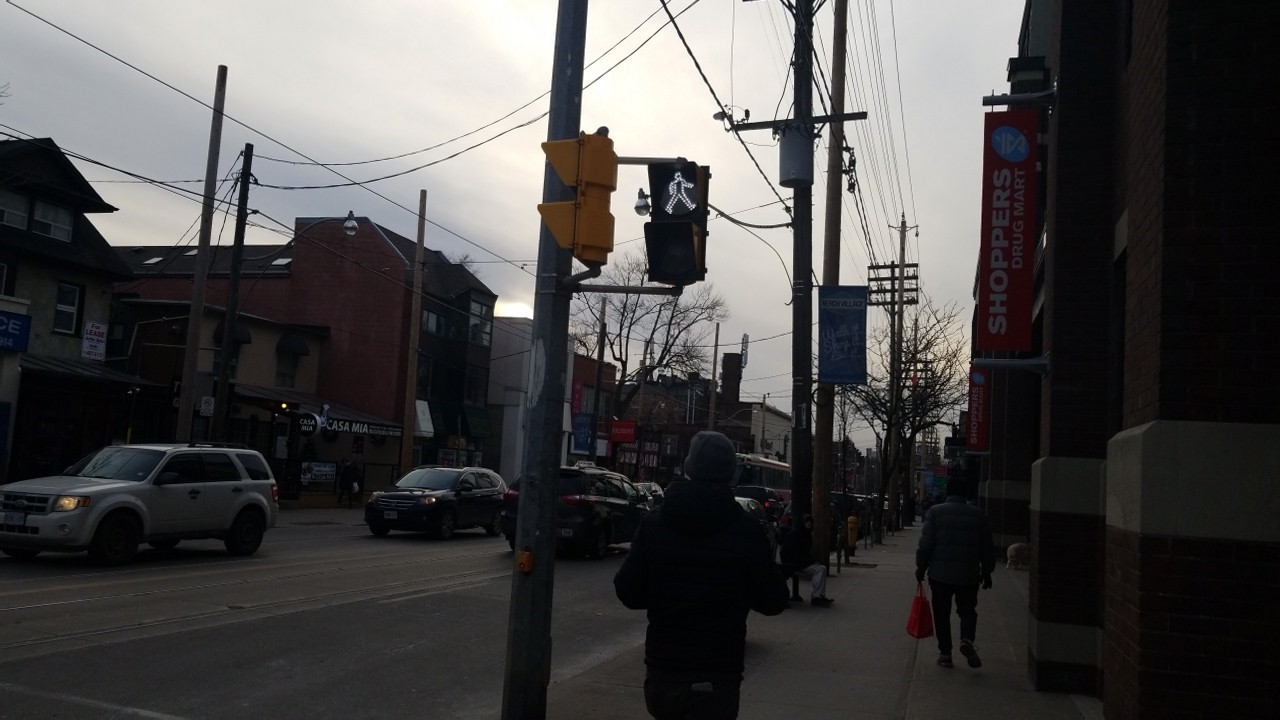light: (639, 153, 714, 291)
